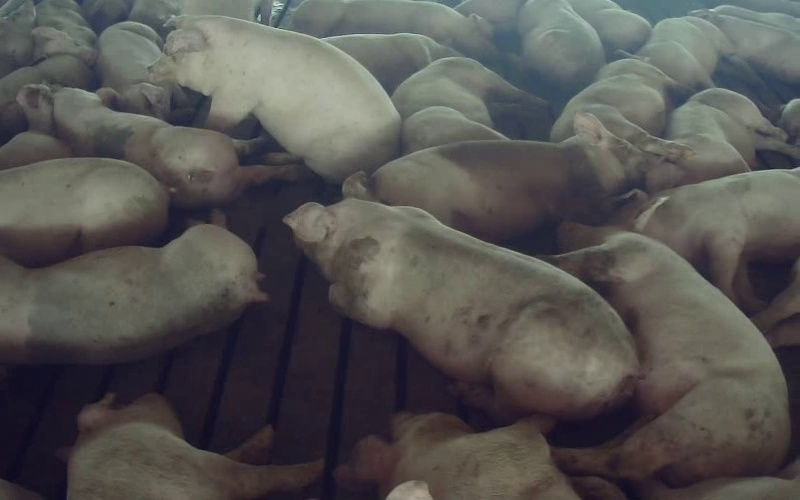pig: (286, 177, 637, 418), (552, 223, 788, 485), (150, 16, 400, 181), (0, 207, 266, 362), (345, 113, 646, 242), (53, 88, 309, 206), (67, 394, 322, 499), (611, 169, 799, 307), (337, 413, 579, 499), (646, 89, 799, 192), (391, 57, 546, 154), (550, 58, 686, 158), (288, 0, 497, 60), (96, 21, 196, 124), (323, 33, 460, 94), (518, 0, 605, 95), (636, 16, 732, 90)
